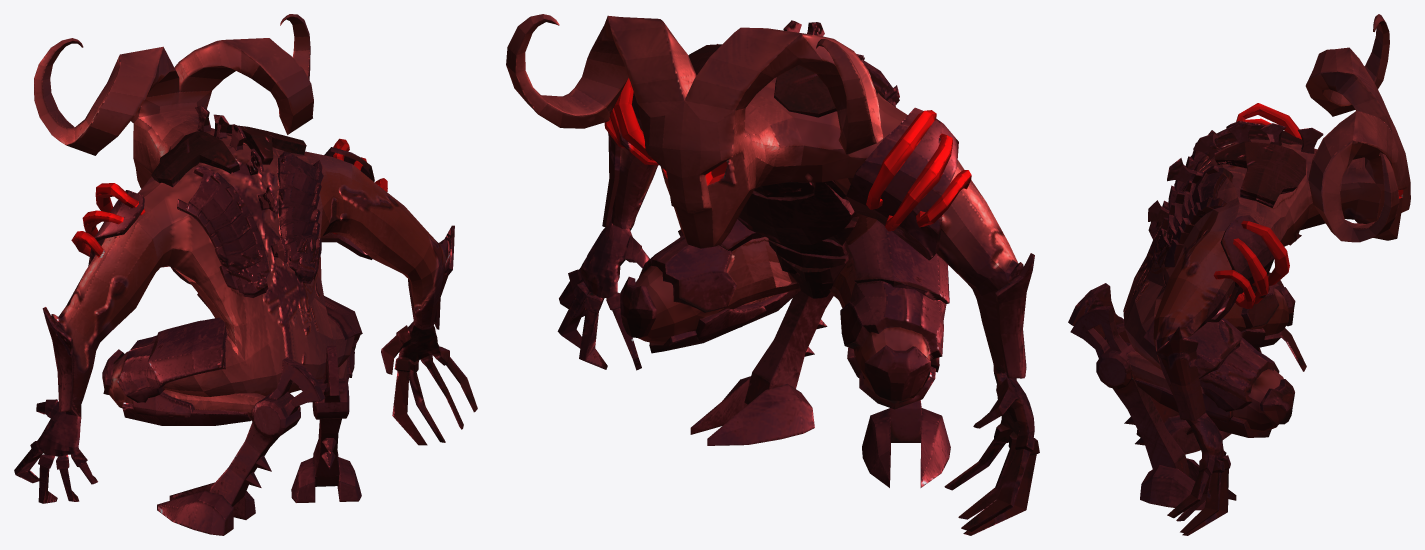
3 views of the same model, side by side, from view 1: azimuth 30°, elevation 25°; view 2: azimuth 150°, elevation 25°; view 3: azimuth 270°, elevation 25° (orthographic). The views are drawn at different scales.
Visible parts, largest first — view 1: Demon_LOW_Plane.002; view 2: Demon_LOW_Plane.002; view 3: Demon_LOW_Plane.002.
Part boxes in pixels (x1,y1,x2,y2): Demon_LOW_Plane.002: [14, 14, 477, 535]; Demon_LOW_Plane.002: [506, 14, 1039, 535]; Demon_LOW_Plane.002: [1068, 14, 1410, 535].
Bounding box in the file's own units: 4.45 × 4.35 × 3.35.
